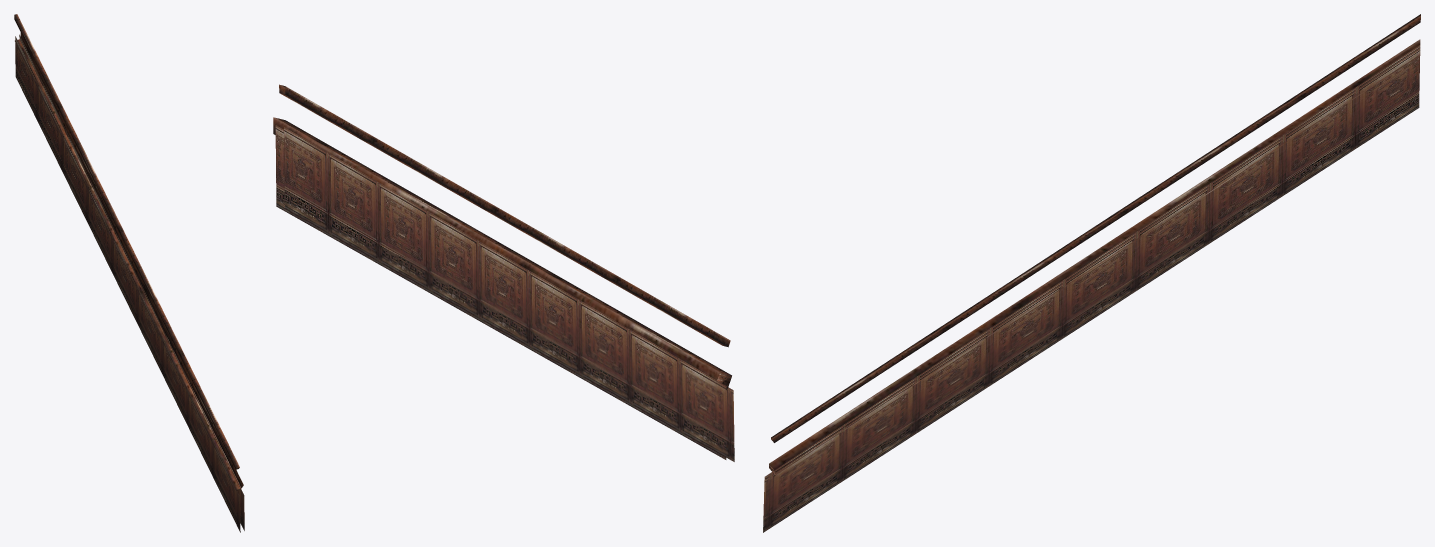
3 views of the same model, side by side, from view 1: azimuth 30°, elevation 25°; view 2: azimuth 150°, elevation 25°; view 3: azimuth 270°, elevation 25° (orthographic). The views are drawn at different scales.
Visible parts, largest first — view 1: Object24; view 2: Object24; view 3: Object24.
Part boxes in pixels (x1,y1,x2,y2): Object24: (14,14,244,532); Object24: (273,84,734,461); Object24: (763,14,1420,532).
Size of the model in its own units: 2 by 109 by 127.
